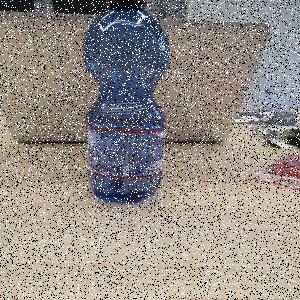Plastic-bottle: (82, 2, 172, 206)
